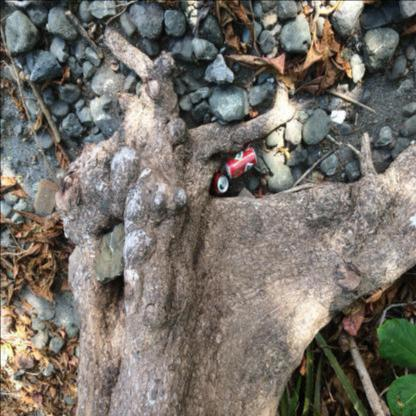Can: (225, 147, 256, 179), (209, 173, 228, 194)
Pop tab: (221, 178, 225, 186), (228, 168, 230, 176)
